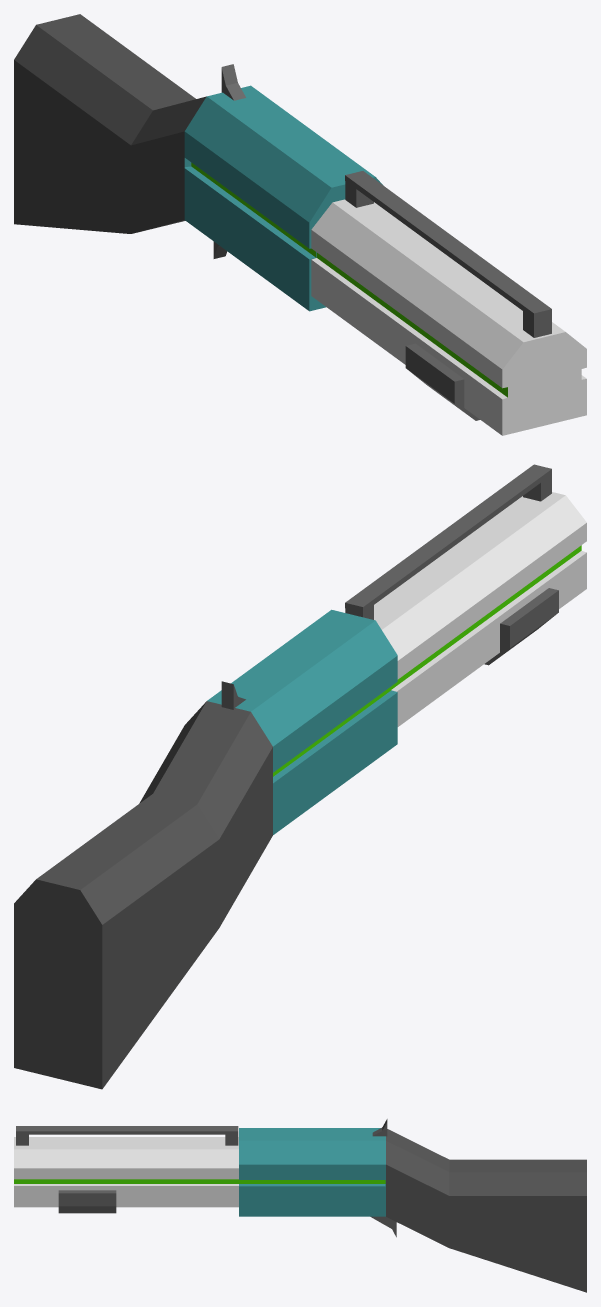
The model's file is shotgun.fbx.
The picture shows the model from 3 angles, top to bottom: view 1: azimuth 30°, elevation 25°; view 2: azimuth 150°, elevation 25°; view 3: azimuth 270°, elevation 25°; orthographic projection. The views are drawn at different scales.
Parts seen in each view (by area): view 1: pCube11; view 2: pCube11; view 3: pCube11.
Part boxes in pixels (x1,y1,x2,y2): pCube11: (14,14,586,435); pCube11: (14,464,586,1089); pCube11: (14,1119,586,1292).
Size of the model in its own units: 1.23 by 3.07 by 9.97.
